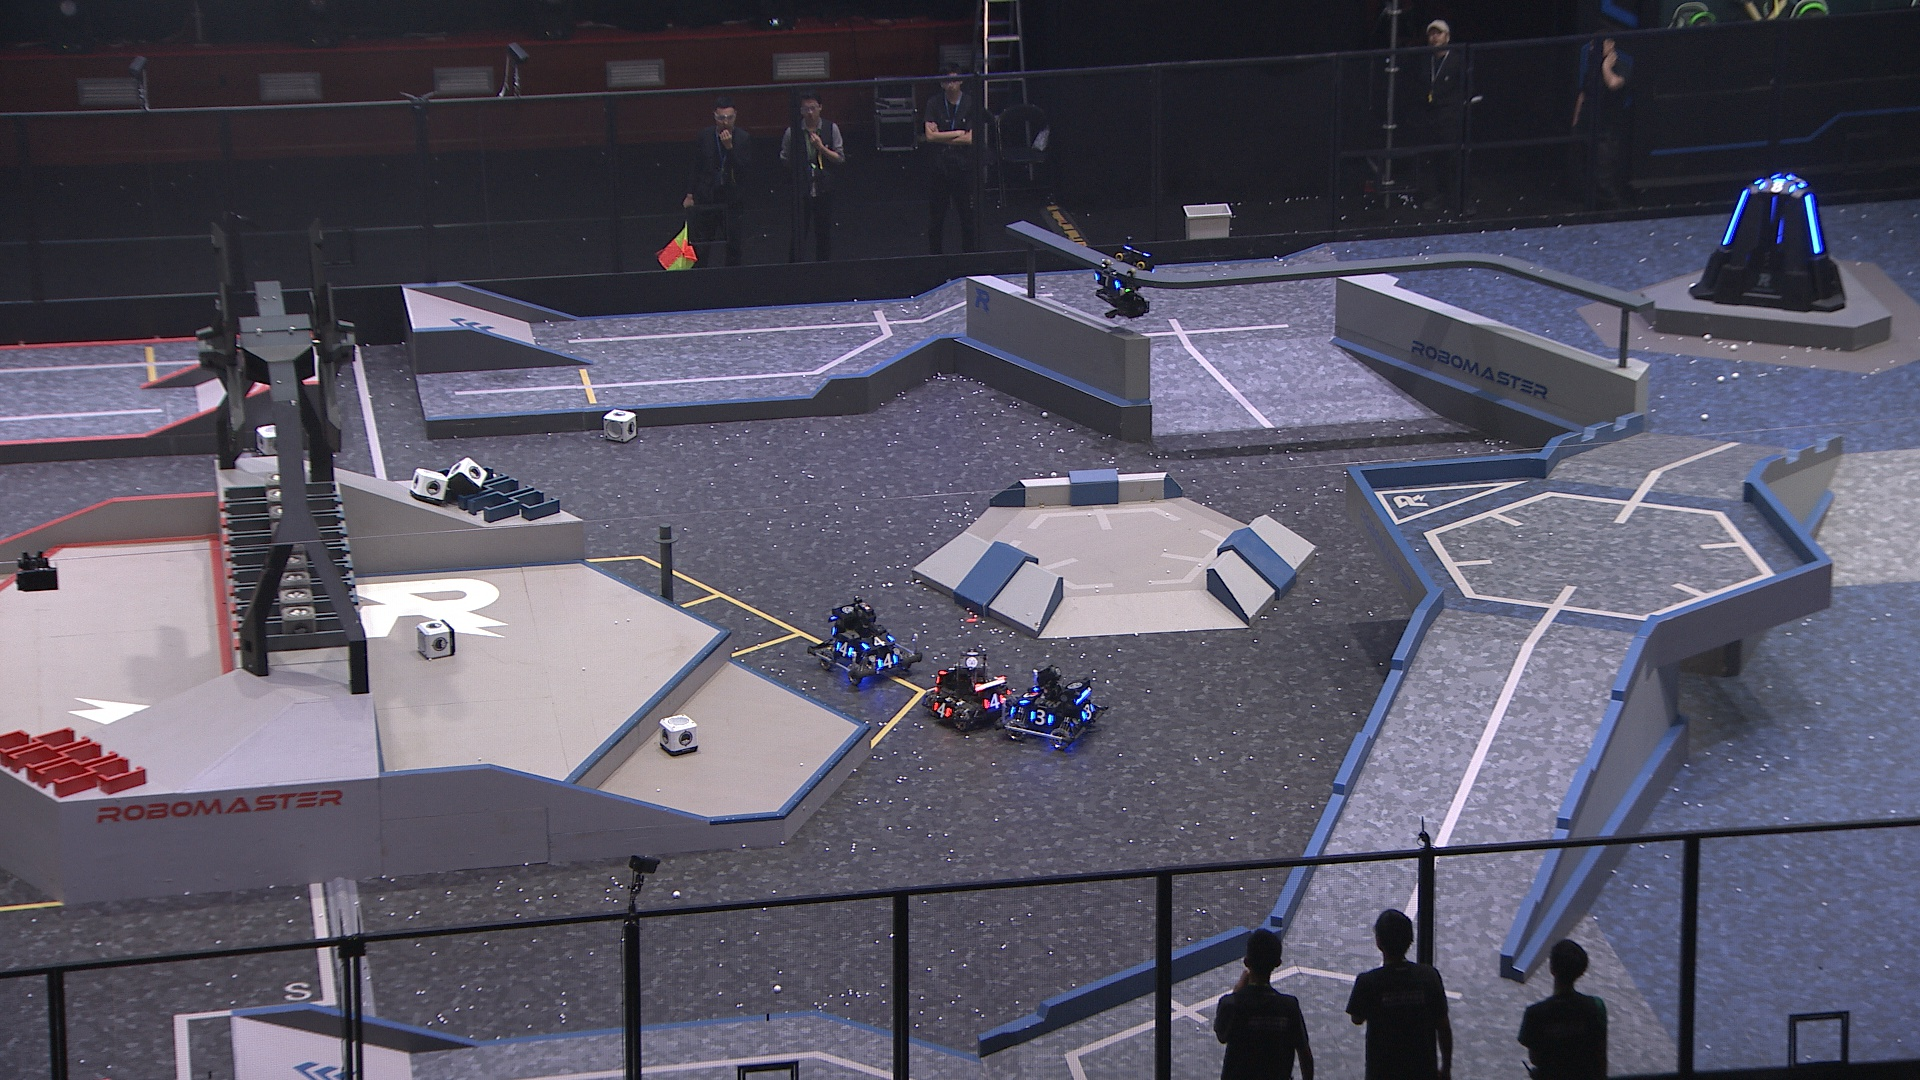armor: (1722, 187, 1750, 247), (1804, 193, 1822, 257), (1756, 177, 1799, 195), (1095, 270, 1121, 294), (861, 633, 894, 650), (832, 637, 856, 659), (877, 650, 899, 673), (930, 699, 953, 717), (939, 661, 963, 679), (1027, 709, 1054, 725), (982, 694, 1006, 711), (1021, 687, 1036, 708), (1081, 700, 1096, 723)
base: (1685, 166, 1849, 310)
car: (808, 595, 927, 684), (1001, 662, 1106, 752), (923, 647, 1013, 731)
watcher: (1092, 232, 1159, 318)
